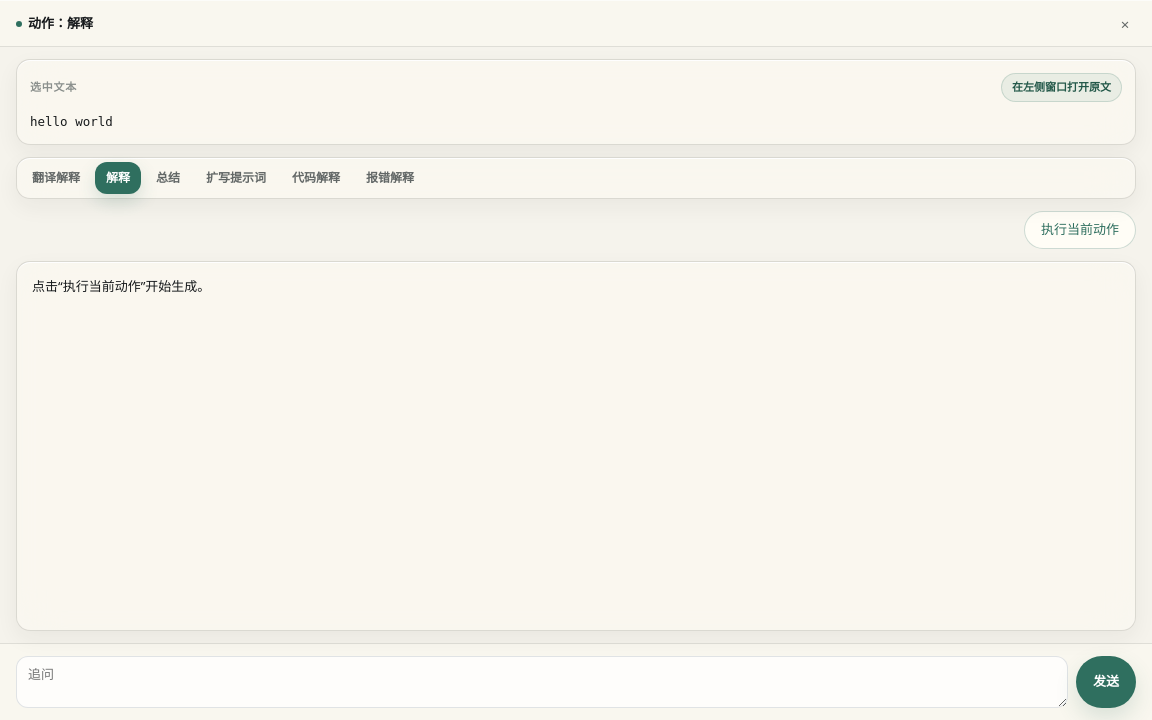
it: AiPanel Tauri event lifecycle › shows a formatted error and stops loading when run_ai_action rejects
The width and height of the screenshot is (1152, 720).
Click the button "执行当前动作": (1080,230) [1024, 211, 1136, 249]
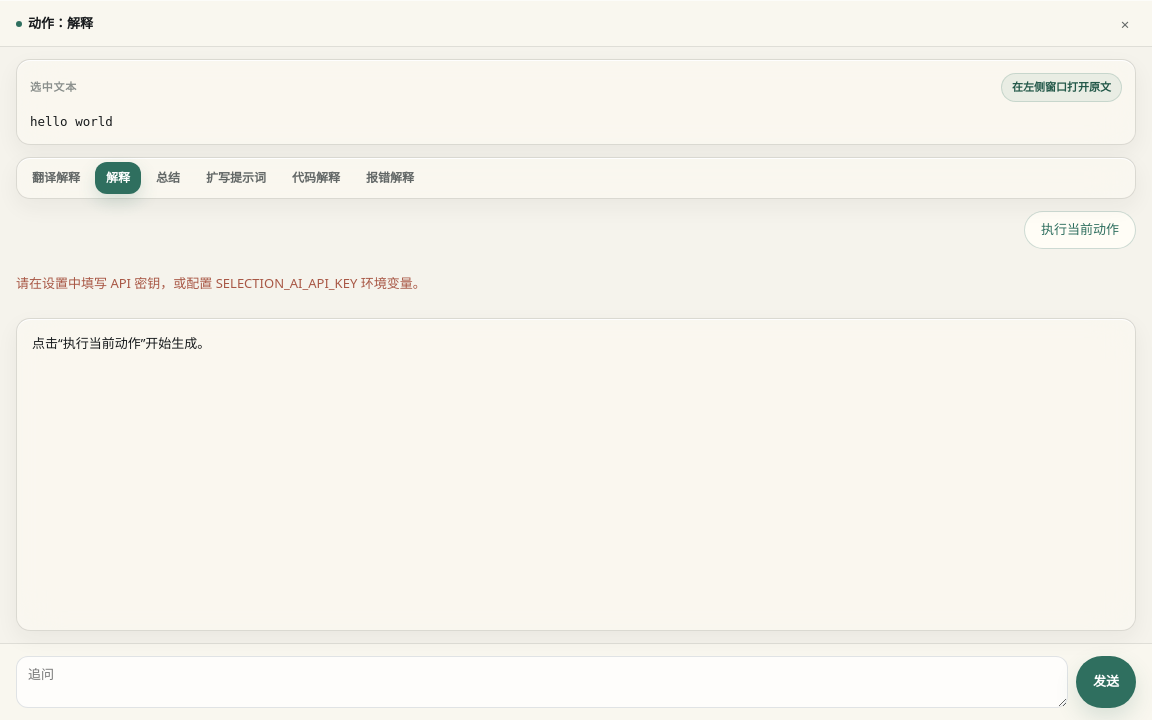
Expected: the message reads "请在设置中填写 API 密钥，或配置 SELECTION_AI_API_KEY 环境变量。", [16, 274, 426, 292]
